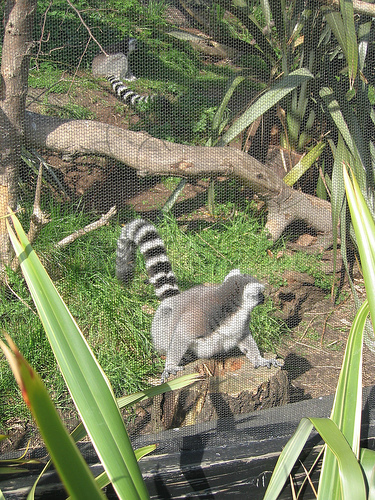cat: (115, 210, 287, 397), (80, 23, 163, 108)
